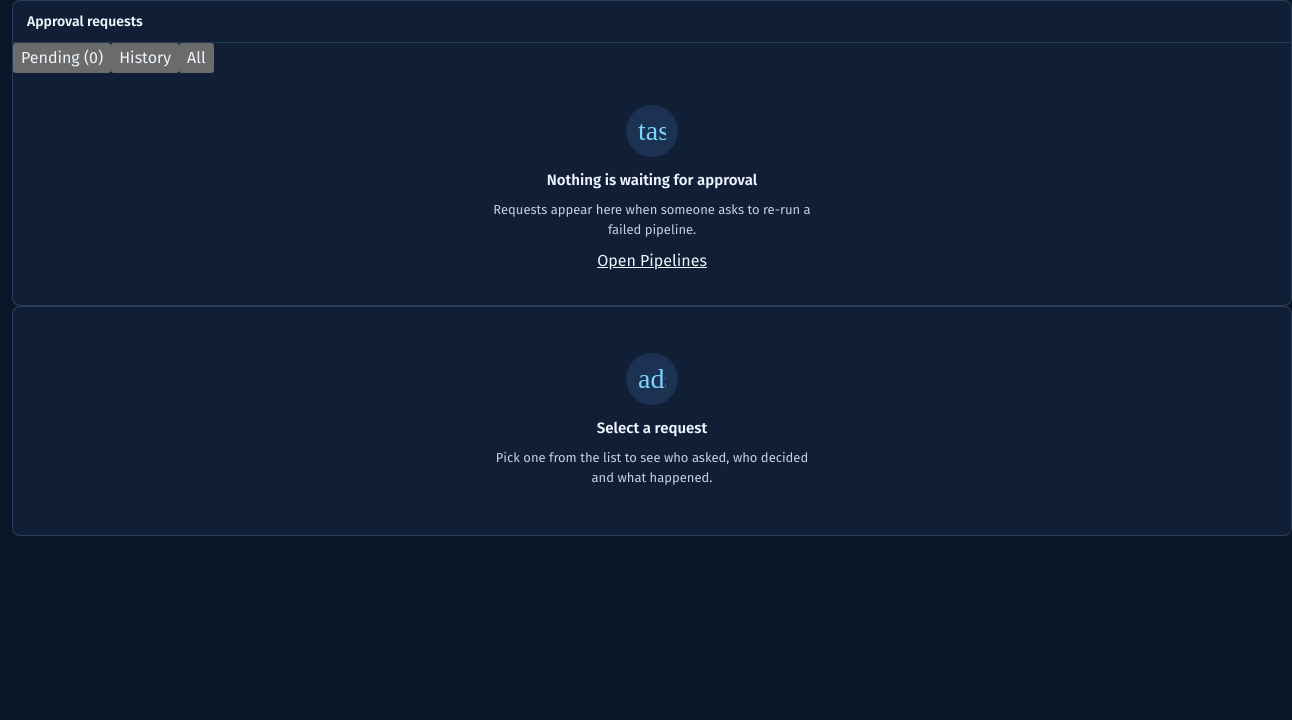
it: LiveApprovals › shows a rejected request as not run
Click the button "History" at (145, 58), box [111,43,179,73]
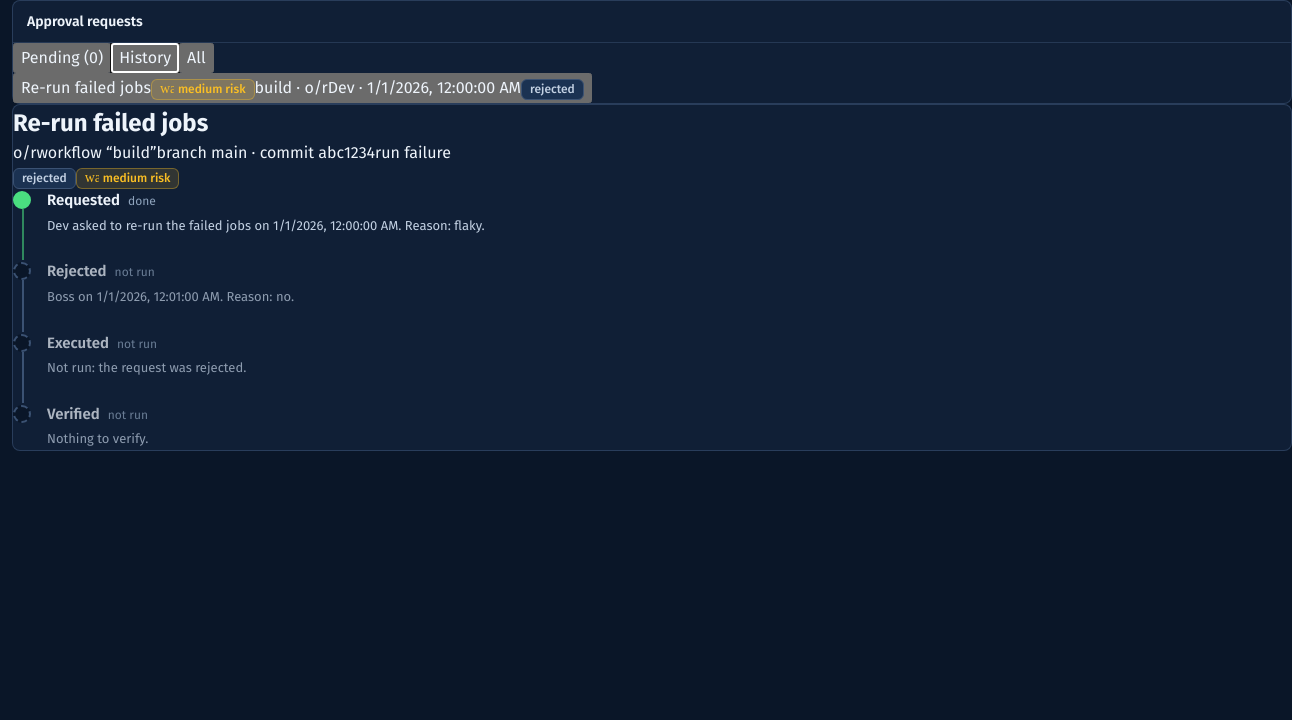
Now the list item "Rejected not run Boss on 1/1/2026, 12:01:00 AM. Reason: no." is shown, box [13,262,294,304]
